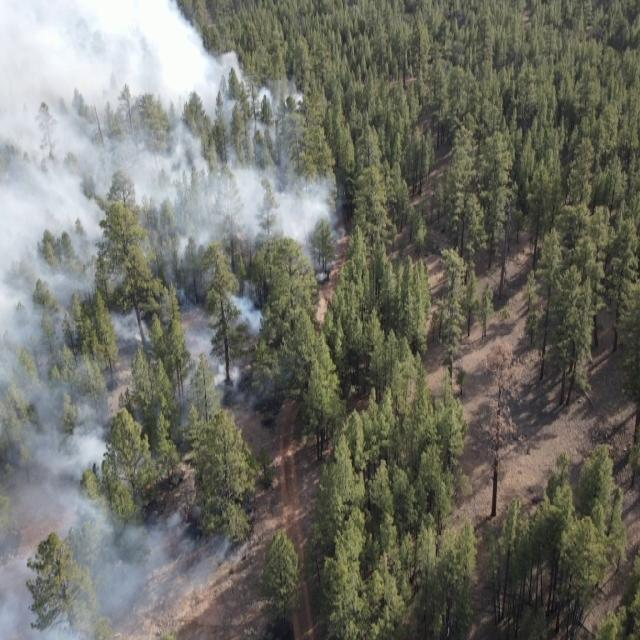fire: (141, 479, 156, 495), (183, 503, 193, 523)
smoke: (0, 485, 231, 640), (0, 102, 176, 296), (0, 296, 152, 487), (0, 0, 177, 101), (165, 264, 278, 404), (176, 178, 342, 264), (176, 82, 302, 188), (176, 8, 242, 80)
